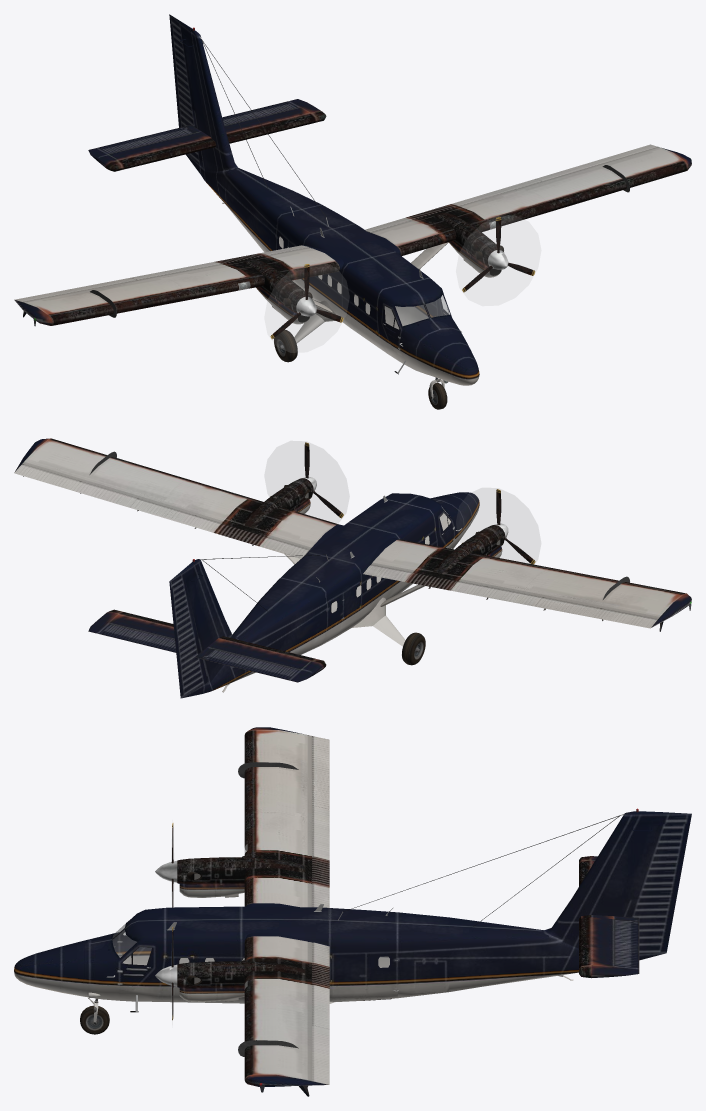
The model's file is DHC6.glb.
3 renders of one model, top to bottom at view 1: azimuth 30°, elevation 25°; view 2: azimuth 150°, elevation 25°; view 3: azimuth 270°, elevation 25°, orthographic. The views are drawn at different scales.
Parts seen in each view (by area): view 1: body, fuselage_rear, wing_left_outer, propeller_disc, propeller_disc_2, wing_right_outer, wing_right_inner, wing_left_inner, stab, fin, elevator, rudder (+4 smaller); view 2: body, fuselage_rear, wing_left_outer, wing_right_outer, wing_right_inner, wing_left_inner, propeller_disc, propeller_disc_2, flap_left, flap_right, elevator, rudder (+6 smaller); view 3: body, fuselage_rear, wing_left_inner, fin, wing_right_outer, wing_right_inner, wing_left_outer, rudder, flap_right, stab, flap_left, elevator (+3 smaller).
Part boxes in pixels (x1=…): body: x1=280, y1=220, x2=497, y2=385; fuselage_rear: x1=198, y1=101, x2=349, y2=290; wing_left_outer: x1=507, y1=147, x2=691, y2=216; propeller_disc: x1=456, y1=216, x2=540, y2=305; propeller_disc_2: x1=265, y1=262, x2=348, y2=352; wing_right_outer: x1=14, y1=273, x2=205, y2=326; wing_right_inner: x1=178, y1=248, x2=339, y2=324; wing_left_inner: x1=373, y1=193, x2=535, y2=275; stab: x1=105, y1=107, x2=326, y2=194; fin: x1=180, y1=27, x2=244, y2=168; elevator: x1=88, y1=99, x2=321, y2=167; rudder: x1=169, y1=14, x2=202, y2=173; body: x1=280, y1=478, x2=499, y2=629; fuselage_rear: x1=202, y1=554, x2=355, y2=693; wing_left_outer: x1=14, y1=438, x2=203, y2=510; wing_right_outer: x1=507, y1=564, x2=691, y2=631; wing_right_inner: x1=372, y1=527, x2=533, y2=598; wing_left_inner: x1=177, y1=480, x2=338, y2=547; propeller_disc: x1=265, y1=441, x2=349, y2=523; propeller_disc_2: x1=456, y1=488, x2=540, y2=562; flap_left: x1=22, y1=462, x2=311, y2=558; flap_right: x1=363, y1=562, x2=661, y2=631; elevator: x1=88, y1=612, x2=323, y2=682; rudder: x1=169, y1=563, x2=206, y2=698; body: x1=14, y1=857, x2=340, y2=1012; fuselage_rear: x1=341, y1=849, x2=596, y2=1001; wing_left_inner: x1=177, y1=936, x2=307, y2=1006; fin: x1=523, y1=808, x2=658, y2=942; wing_right_outer: x1=238, y1=727, x2=312, y2=827; wing_right_inner: x1=188, y1=822, x2=307, y2=907; wing_left_outer: x1=238, y1=1001, x2=328, y2=1096; rudder: x1=624, y1=811, x2=691, y2=960; flap_right: x1=307, y1=735, x2=329, y2=907; stab: x1=523, y1=856, x2=614, y2=977; flap_left: x1=303, y1=942, x2=329, y2=1095; elevator: x1=591, y1=856, x2=639, y2=978.
Size of the model in its own units: 19.57 by 5.8 by 15.75.
10 materials, 8 textured.
